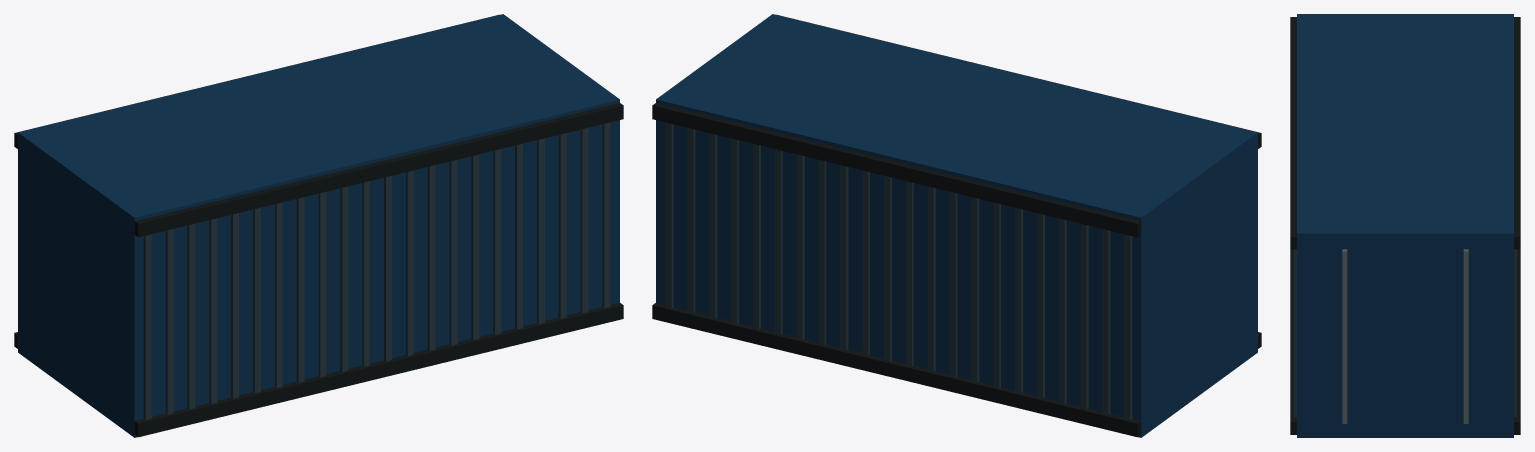
The model's file is shipping_container.obj.
3 renders of one model, left to right at view 1: azimuth 30°, elevation 25°; view 2: azimuth 150°, elevation 25°; view 3: azimuth 270°, elevation 25°, orthographic. The views are drawn at different scales.
Parts seen in each view (by area): view 1: Industrial_Blue, Roof_Metal, Dark_Frame; view 2: Industrial_Blue, Roof_Metal, Dark_Frame; view 3: Industrial_Blue, Dark_Frame, Metal_Silver, Roof_Metal.
Boxes of the visible parts, x1,y1,x2,y2 form: Industrial_Blue: (18,14,619,437); Roof_Metal: (143,122,610,419); Dark_Frame: (14,14,623,437); Industrial_Blue: (656,14,1257,437); Roof_Metal: (665,122,1132,419); Dark_Frame: (652,14,1261,437); Industrial_Blue: (1297,14,1513,437); Dark_Frame: (1290,17,1520,434); Metal_Silver: (1342,249,1468,423); Roof_Metal: (1293,249,1517,416).
Size of the model in its own units: 6.05 by 2.6 by 2.66.
